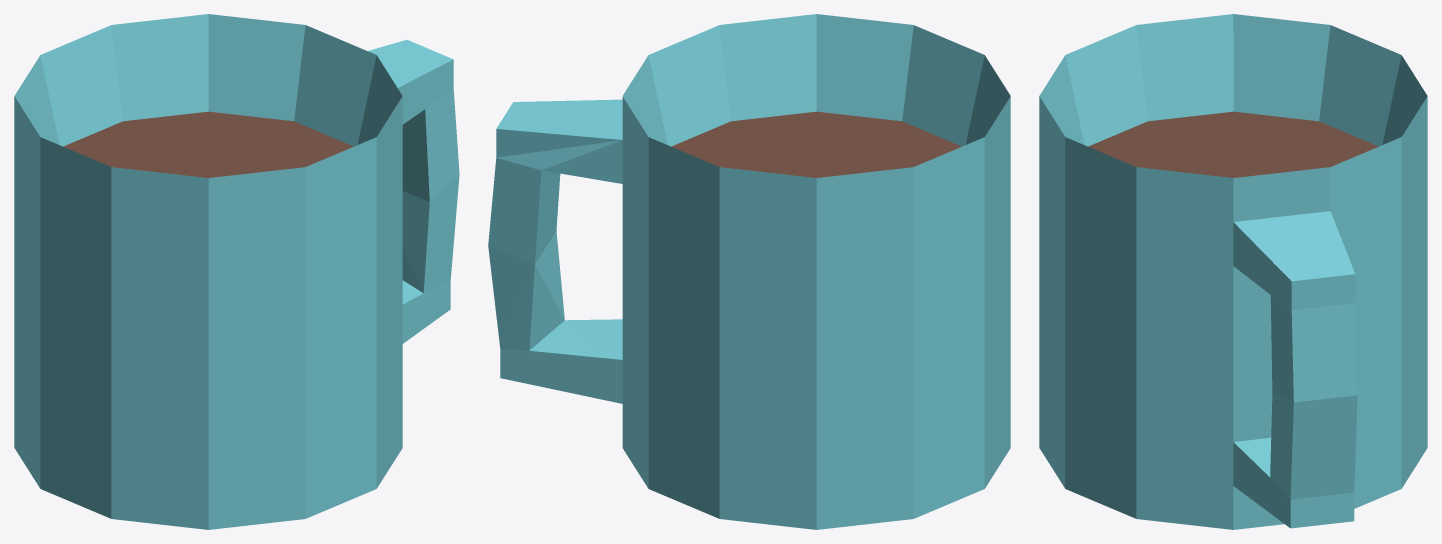
Rendered from HotCoffee.fbx.
3 views of the same model, side by side, from view 1: azimuth 30°, elevation 25°; view 2: azimuth 150°, elevation 25°; view 3: azimuth 270°, elevation 25° (orthographic).
Parts seen in each view (by area): view 1: mesh_377419114; view 2: mesh_377419114; view 3: mesh_377419114.
Boxes of the visible parts, x1,y1,x2,y2 form: mesh_377419114: [14, 14, 459, 529]; mesh_377419114: [488, 14, 1010, 529]; mesh_377419114: [1039, 14, 1427, 529].
Bounding box in the file's own units: 32.07 × 24 × 24.
